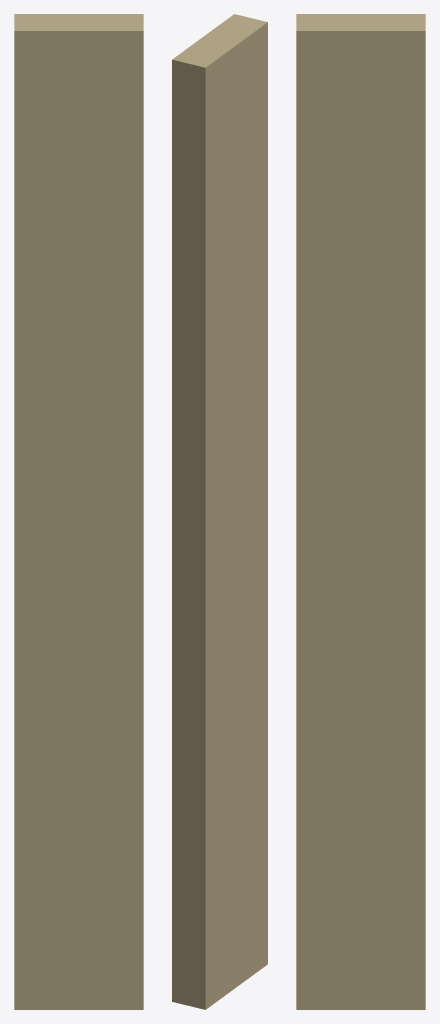
3 renders of one model, left to right at view 1: azimuth 90°, elevation 25°; view 2: azimuth 150°, elevation 25°; view 3: azimuth 270°, elevation 25°, orthographic. The views are drawn at different scales.
Parts seen in each view (by area): view 1: GF-W133; view 2: GF-W133; view 3: GF-W133.
Boxes of the visible parts, x1,y1,x2,y2 form: GF-W133: (14,14,143,1009); GF-W133: (172,14,267,1009); GF-W133: (296,14,425,1009).
Size of the model in its own units: 0.09 by 2.42 by 0.29.
